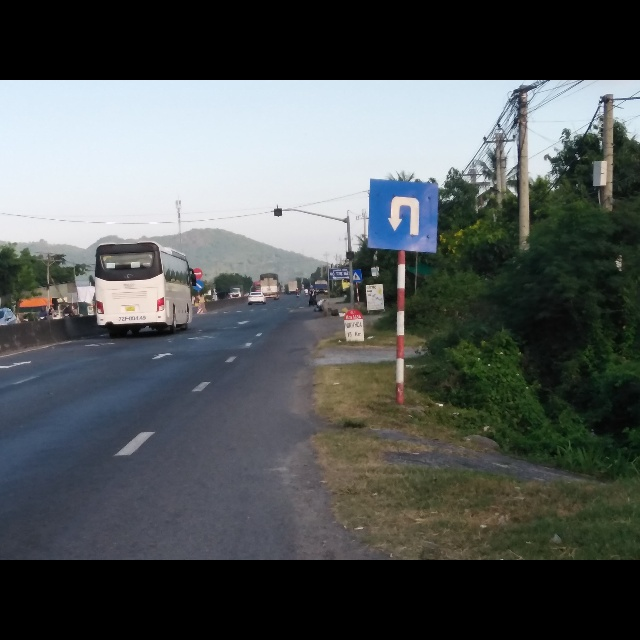Khu vực quay đầu xe: (369, 179, 442, 255)
